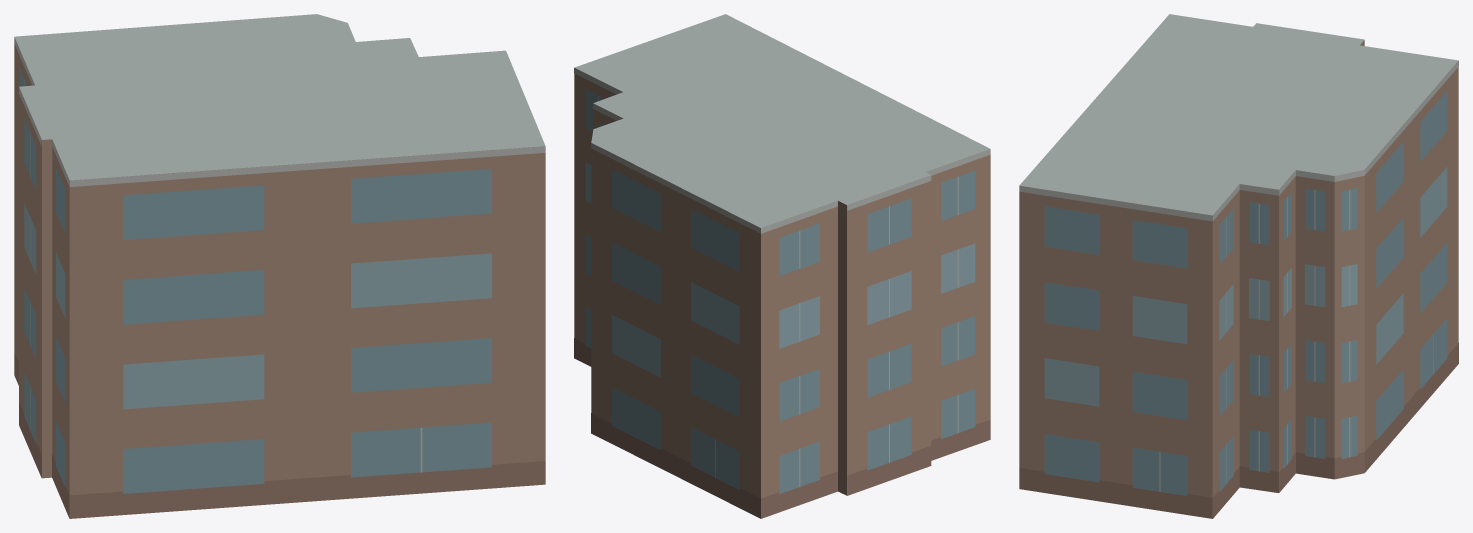
The model's file is survey-upis-32928369.glb.
The picture shows the model from 3 angles, left to right: view 1: azimuth 30°, elevation 25°; view 2: azimuth 150°, elevation 25°; view 3: azimuth 270°, elevation 25°; orthographic projection. The views are drawn at different scales.
Parts seen in each view (by area): view 1: survey-upis-32928369.tmp; view 2: survey-upis-32928369.tmp; view 3: survey-upis-32928369.tmp.
Part boxes in pixels (x1,y1,x2,y2): survey-upis-32928369.tmp: (14,14,545,518); survey-upis-32928369.tmp: (574,14,990,518); survey-upis-32928369.tmp: (1019,14,1458,518).
Bounding box in the file's own units: 17.74 × 12.45 × 16.36.
